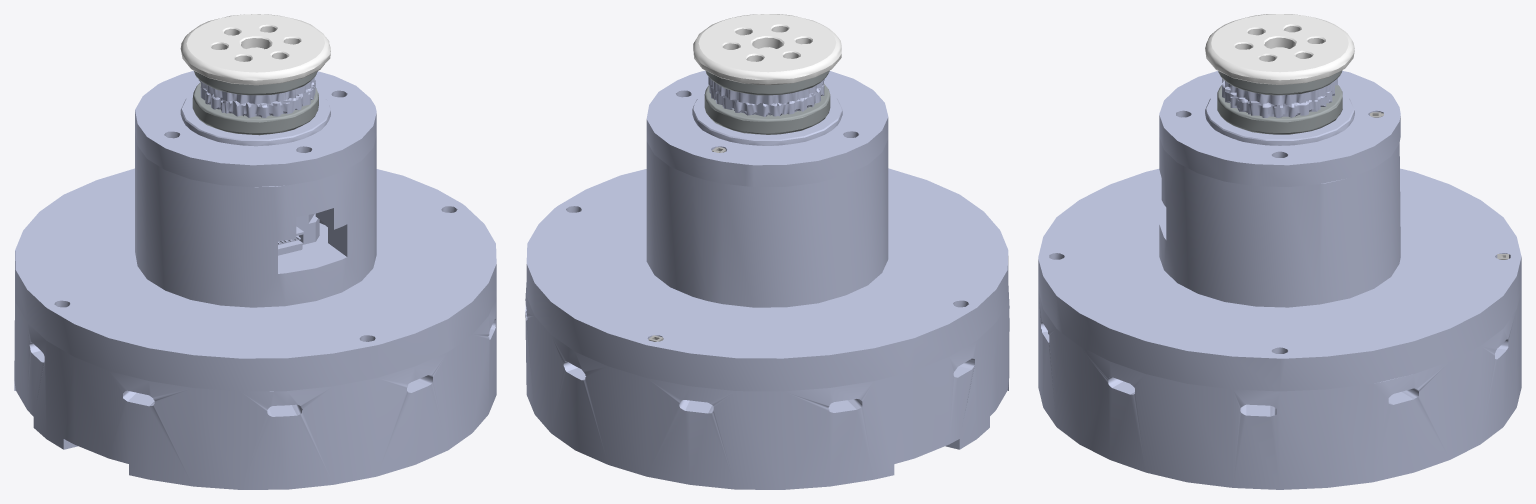
The picture shows the model from 3 angles, left to right: view 1: azimuth 30°, elevation 25°; view 2: azimuth 150°, elevation 25°; view 3: azimuth 270°, elevation 25°; orthographic projection.
Parts seen in each view (by area): view 1: base_link; view 2: base_link; view 3: base_link.
Part boxes in pixels (x1,y1,x2,y2): base_link: (14,14,496,489); base_link: (525,14,1009,489); base_link: (1038,14,1521,489).
Size of the model in its own units: 0.2 by 0.2 by 0.1575.
